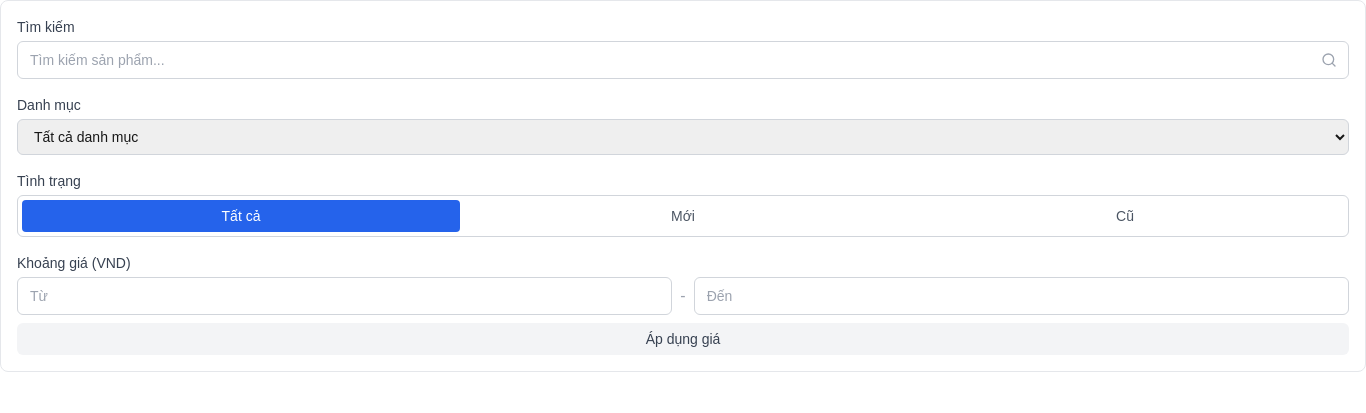
Test: ProductFilters › shows validation error when min price exceeds max price
Type "30000000" into the number field named "Giá tối thiểu". click: (345, 296)
box: 17,277 -> 672,315
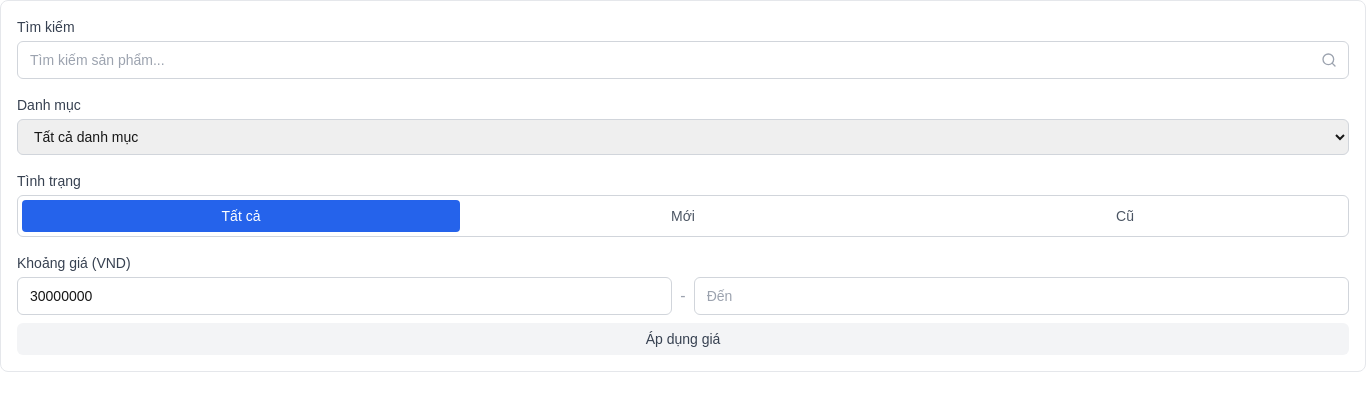
Type "10000000" into the number field named "Giá tối đa". click: (1021, 296)
box: 694,277 -> 1349,315
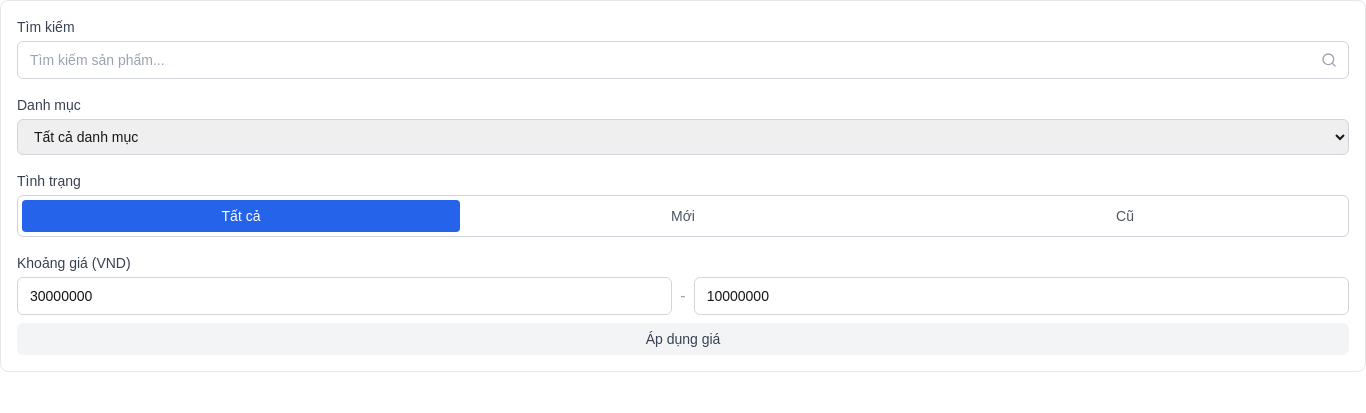
Click the button "Áp dụng giá". click: click(683, 339)
box: 17,323 -> 1349,355
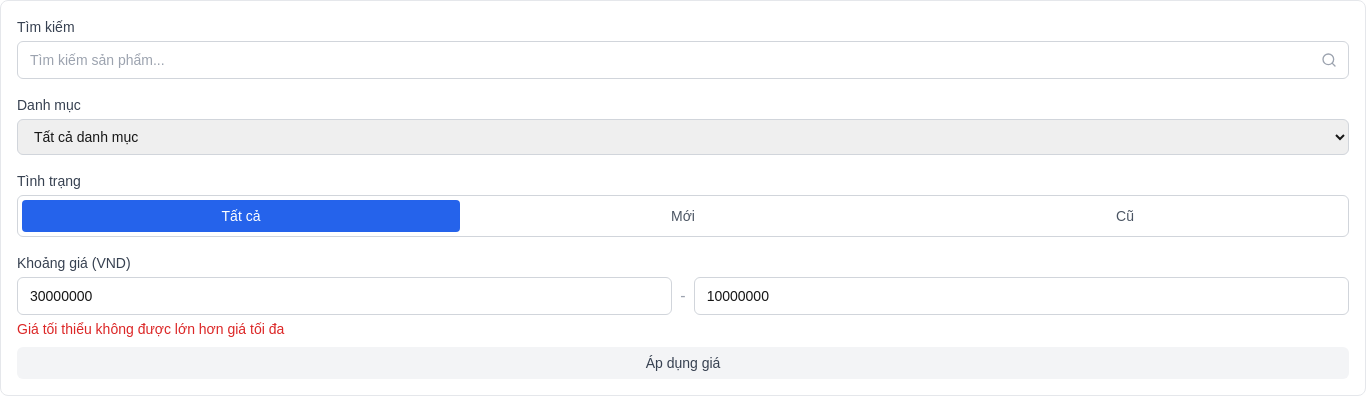
Result: the text "Giá tối thiểu không được lớn hơn giá tối đa" is shown at 17,321 -> 284,337
